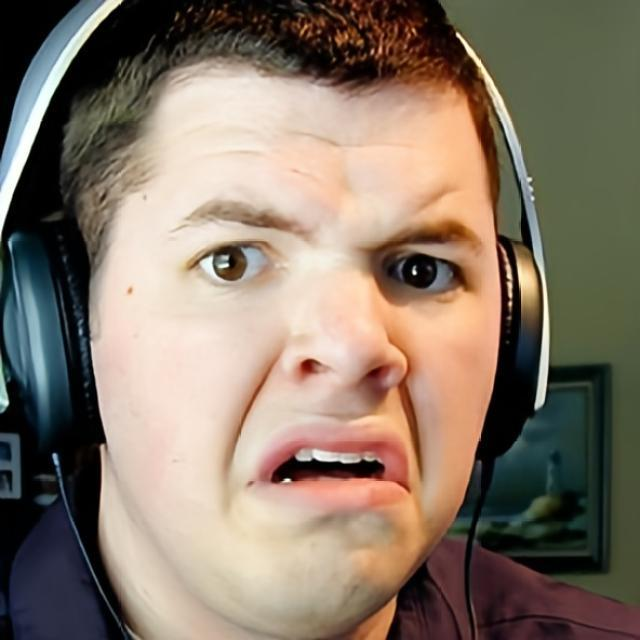disgust: (82, 48, 503, 640)
